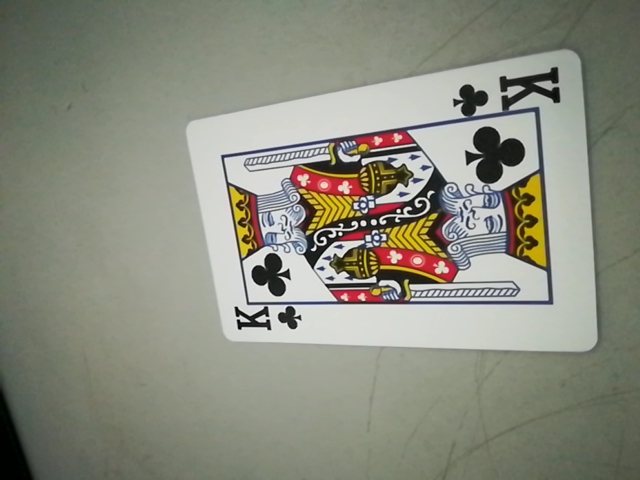mh k: (450, 64, 564, 120), (228, 300, 302, 340)
